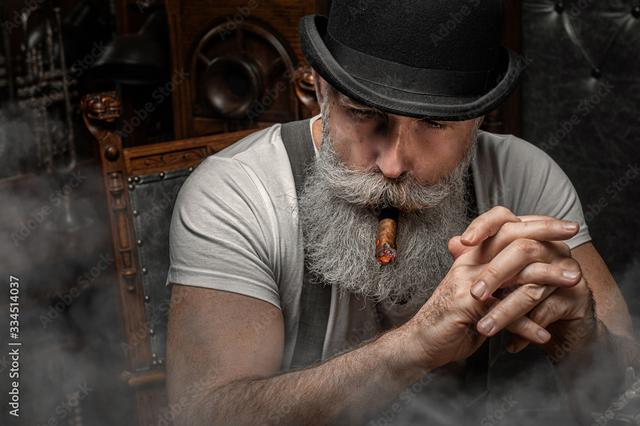Cigar: (373, 205, 399, 265)
